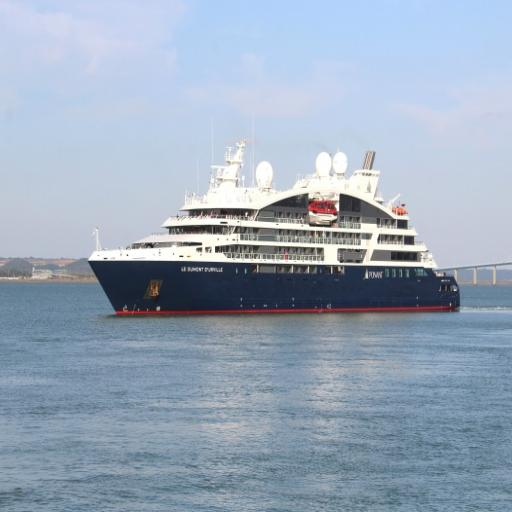cruises: (85, 136, 466, 327)
